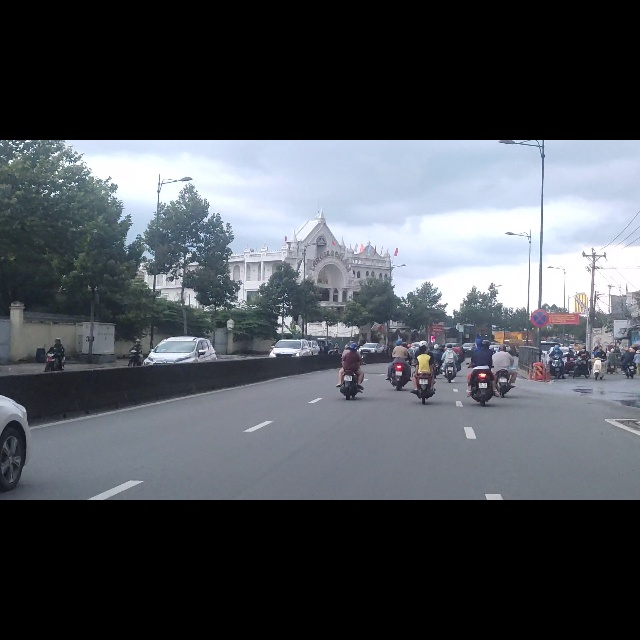bien_cam: (531, 301, 548, 331)
